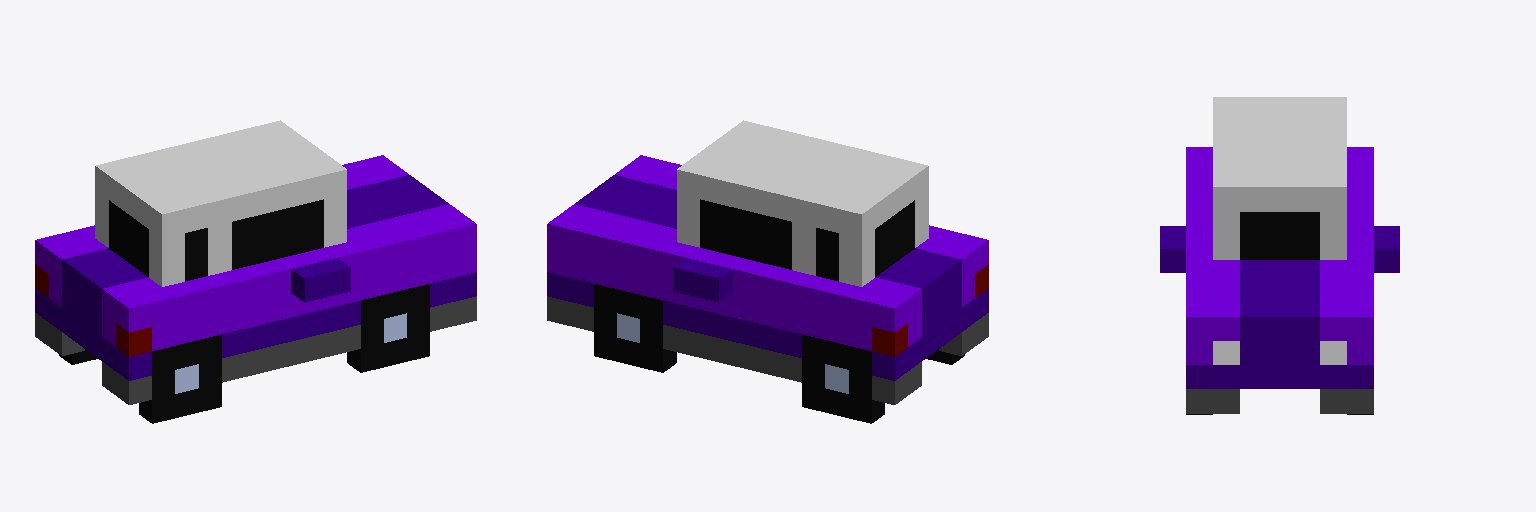
3 views of the same model, side by side, from view 1: azimuth 30°, elevation 25°; view 2: azimuth 150°, elevation 25°; view 3: azimuth 270°, elevation 25° (orthographic).
Parts seen in each view (by area): view 1: PurpleCar; view 2: PurpleCar; view 3: PurpleCar.
Part boxes in pixels (left/top/right/bottom): PurpleCar: left=35, top=120, right=476, bottom=423; PurpleCar: left=547, top=120, right=988, bottom=423; PurpleCar: left=1160, top=97, right=1399, bottom=414.
Size of the model in its own units: 15 by 8 by 9.
Materials: 1 (1 with a texture image).